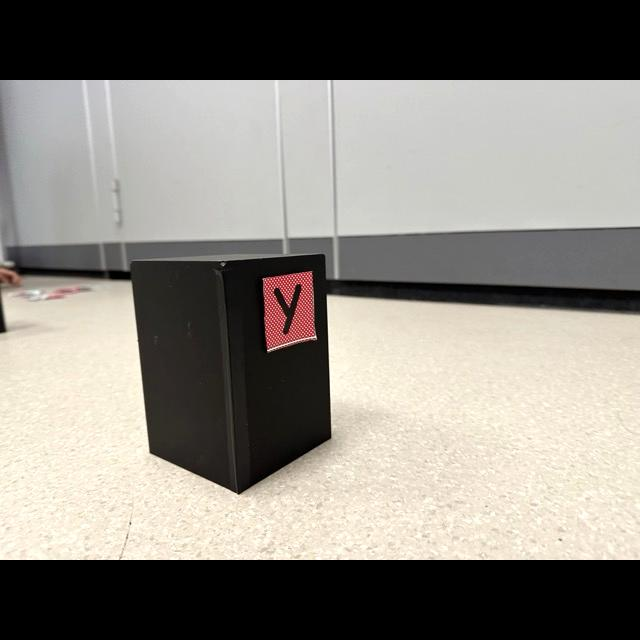Y: (274, 284, 301, 334)
